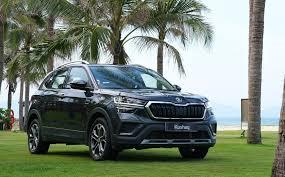skoda: (173, 95, 184, 103)
